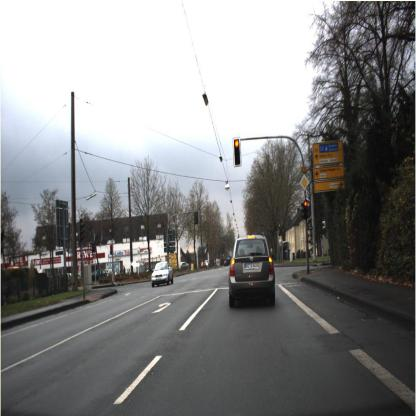other: (299, 169, 309, 192)
